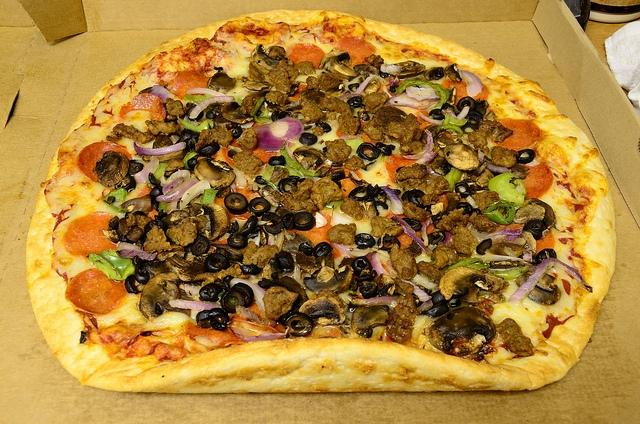bell pepper: (395, 80, 450, 108), (488, 172, 527, 210), (280, 142, 322, 177), (88, 250, 135, 280), (483, 200, 516, 226), (176, 115, 214, 132), (446, 257, 491, 270), (438, 119, 464, 136), (101, 200, 128, 213), (182, 94, 215, 104), (200, 188, 218, 204)
mushroom: (139, 271, 195, 320), (438, 266, 486, 302), (298, 290, 347, 324), (192, 203, 230, 242), (513, 198, 558, 230), (93, 150, 129, 188), (351, 304, 389, 338), (194, 158, 236, 188), (320, 50, 359, 80), (444, 142, 481, 172), (252, 43, 285, 70), (293, 147, 327, 169), (208, 67, 236, 93), (220, 102, 253, 124), (389, 60, 425, 80), (488, 242, 530, 257), (258, 185, 284, 207), (352, 64, 380, 79)
onion: (508, 258, 583, 302), (387, 260, 432, 302), (390, 215, 433, 256), (253, 118, 304, 150), (230, 278, 266, 310), (156, 177, 200, 203), (180, 178, 212, 210), (400, 130, 434, 160), (190, 96, 233, 118), (388, 92, 440, 110), (233, 326, 290, 342), (134, 142, 186, 156), (379, 186, 404, 215), (354, 74, 389, 94), (371, 252, 397, 278), (168, 300, 220, 312), (460, 70, 482, 98), (406, 86, 440, 101), (148, 86, 176, 104), (116, 249, 158, 261), (409, 274, 438, 290), (186, 88, 228, 97), (486, 227, 522, 237), (414, 151, 439, 165), (367, 296, 398, 304), (116, 242, 140, 252), (504, 234, 522, 242)
